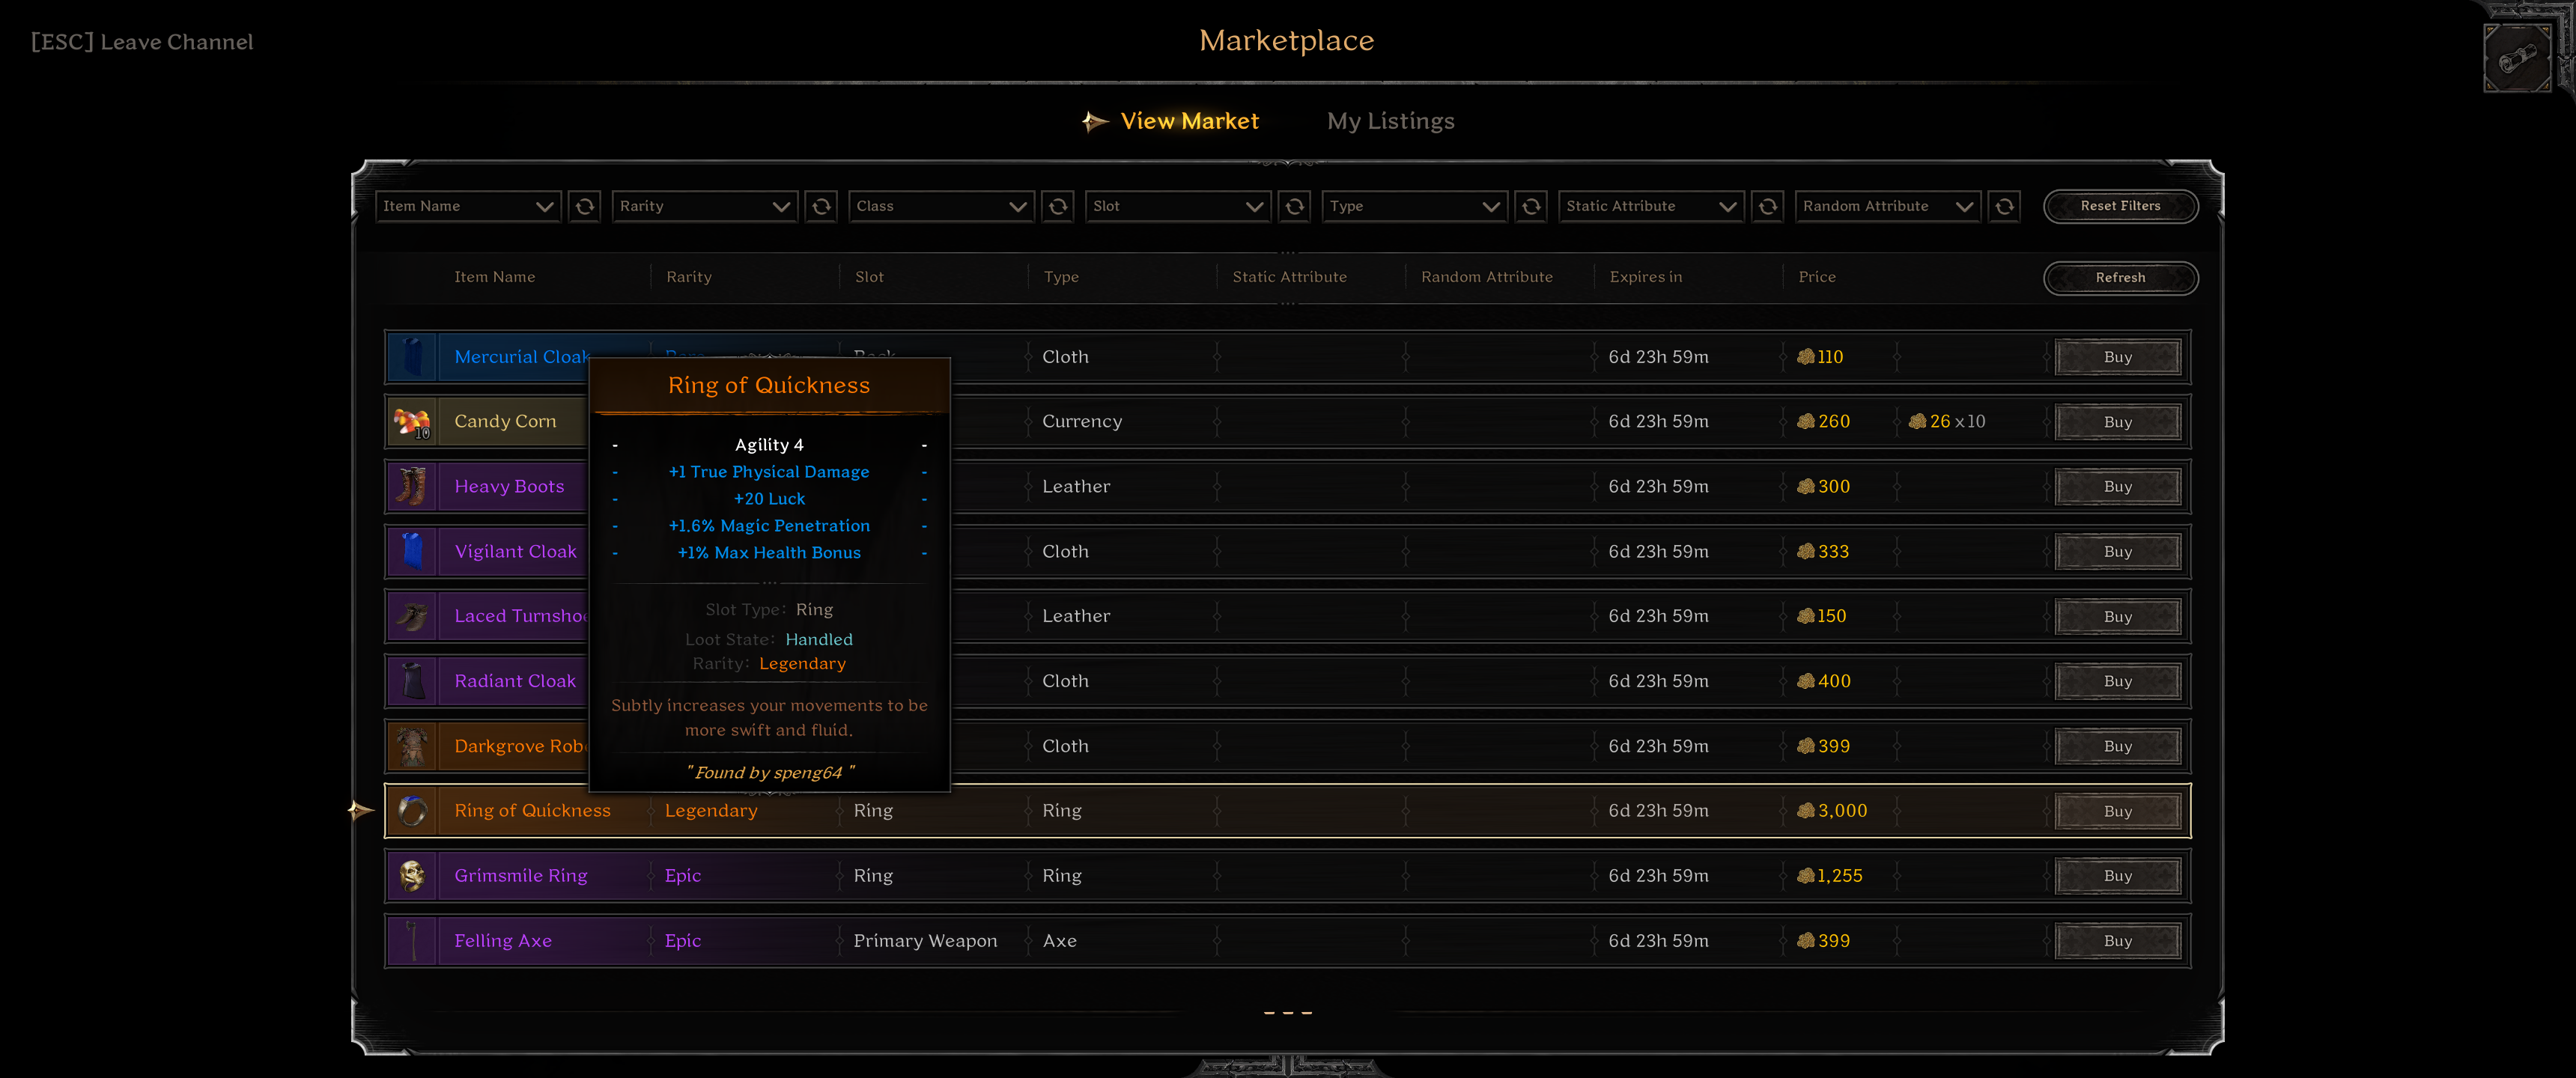Tooltip: (586, 355, 953, 795)
